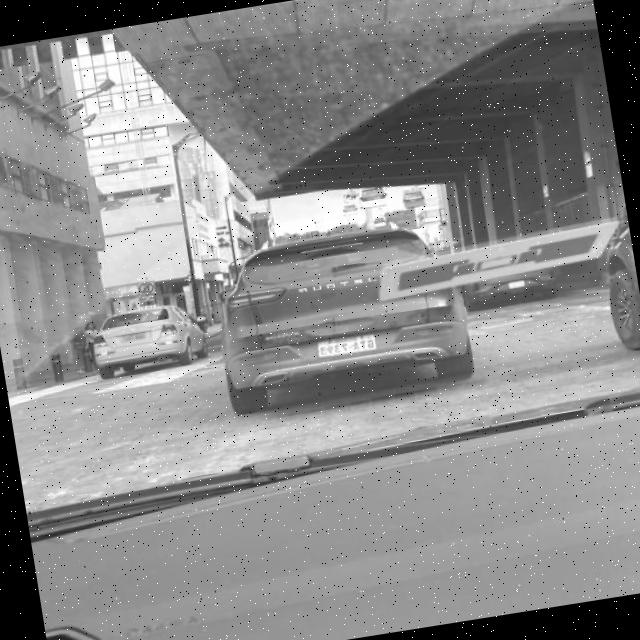Placa: (319, 334, 374, 356), (124, 333, 144, 341), (509, 280, 525, 288)
